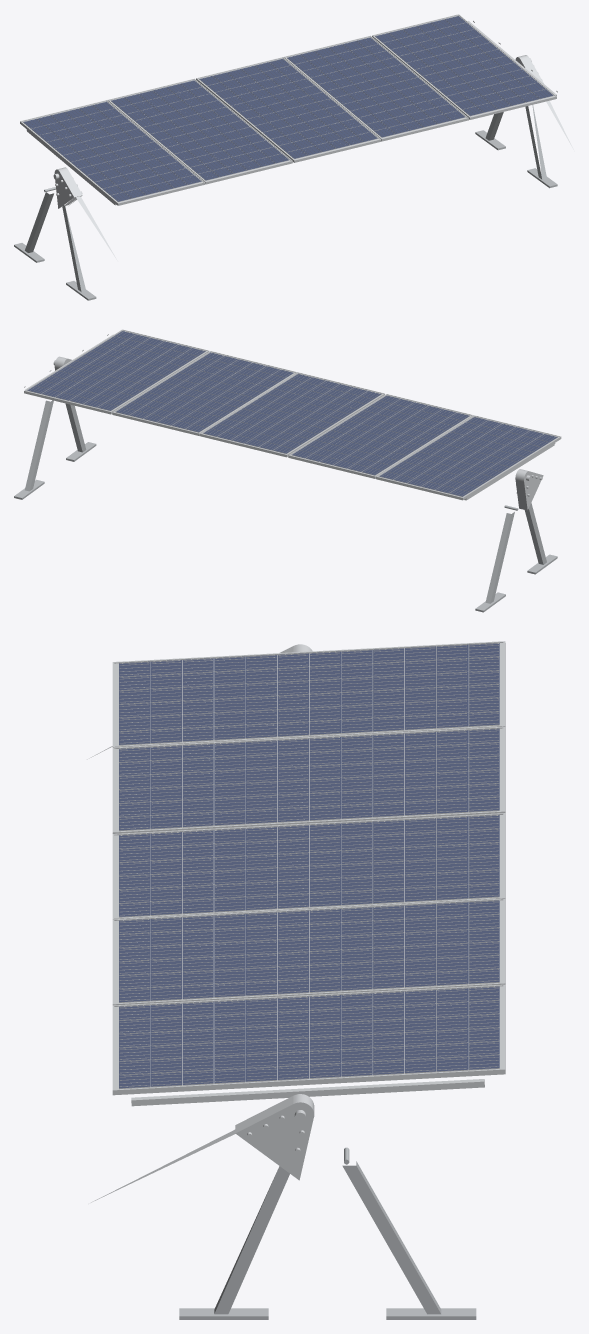
Rendered from solar-fixed.glb.
3 views of the same model, one above another, from view 1: azimuth 30°, elevation 25°; view 2: azimuth 150°, elevation 25°; view 3: azimuth 270°, elevation 25° (orthographic). The views are drawn at different scales.
Visible parts, largest first — view 1: SolarPanelSurface, SolarPanelFrame, SolarPanelBase; view 2: SolarPanelSurface, SolarPanelFrame, SolarPanelBase; view 3: SolarPanelSurface, SolarPanelFrame, SolarPanelBase.
Boxes of the visible parts, <box> form: SolarPanelSurface: <box>23,16,553,201</box>; SolarPanelFrame: <box>20,14,574,260</box>; SolarPanelBase: <box>14,105,557,300</box>; SolarPanelSurface: <box>27,331,557,496</box>; SolarPanelFrame: <box>24,329,561,510</box>; SolarPanelBase: <box>14,400,557,612</box>; SolarPanelSurface: <box>119,643,499,1088</box>; SolarPanelFrame: <box>87,641,505,1202</box>; SolarPanelBase: <box>179,1147,476,1319</box>.
Size of the model in its own units: 5.41 by 1.27 by 2.08.
